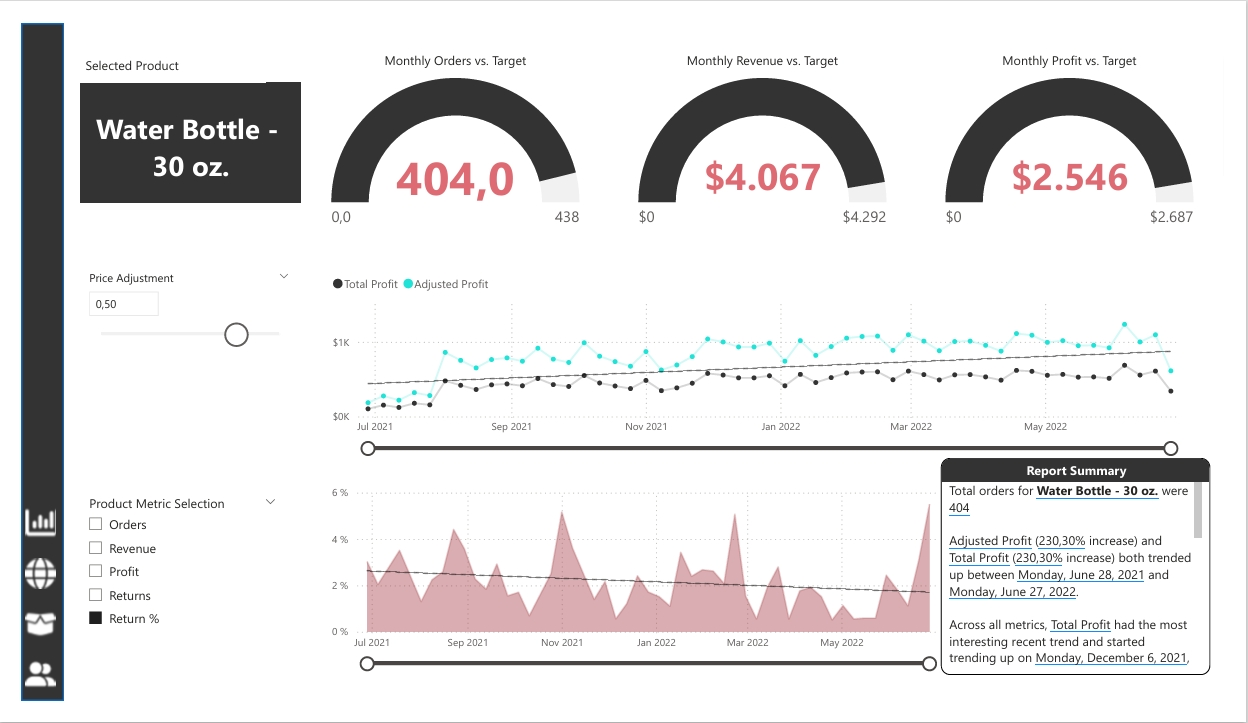

Layout of this report page (visuals, bound fields, positions):
{"tool":"powerbi","page":{"name":"Product Detail","canvas":[1280,720],"ordinal":2},"visuals":[{"type":"shape","box":[0,0,45.2,720],"z":0},{"type":"actionButton","box":[0,511.4,44.3,40],"z":1000,"group":"g1"},{"type":"card","fields":{"Values":["Min(Product Lookup.ProductName)"]},"box":[63.2,63.2,234.8,127.7],"z":1000},{"type":"gauge","title":"Monthly Orders vs. Target","fields":{"Y":["Measure Table.Total Orders"],"MaxValue":["Measure Table.Order Target"]},"box":[325.2,29.7,273.5,202.6],"z":2000},{"type":"actionButton","box":[0,565.7,44.3,40],"z":2000,"group":"g1"},{"type":"gauge","title":"Monthly Revenue vs. Target","fields":{"Y":["Measure Table.Total Revenue"],"MaxValue":["Measure Table.Revenue Target"]},"box":[652.3,29.7,273.5,202.6],"z":3000},{"type":"actionButton","box":[0,619,44.3,40],"z":3000,"group":"g1"},{"type":"gauge","title":"Monthly Profit vs. Target","fields":{"Y":["Measure Table.Total Profit"],"MaxValue":["Measure Table.Profit Target"]},"box":[979.4,29.7,273.5,202.6],"z":4000},{"type":"actionButton","box":[0,672.8,44.3,40],"z":4000,"group":"g1"},{"type":"lineChart","title":"Profit Trending","fields":{"Category":["Calendar Lookup.Date Hierarchy.Start of Year","Calendar Lookup.Date Hierarchy.Start of Month","Calendar Lookup.Date Hierarchy.Start of Week","Calendar Lookup.Date Hierarchy.Date"],"Y":["Measure Table.Total Profit","Measure Table.Adjusted Profit"]},"box":[325.7,257.1,927.1,205.7],"z":5000},{"type":"areaChart","title":"Returns Trending","fields":{"Y":["Measure Table.Return Rate"],"Category":["Calendar Lookup.Date Hierarchy.Start of Year","Calendar Lookup.Date Hierarchy.Start of Month","Calendar Lookup.Date Hierarchy.Start of Week","Calendar Lookup.Date Hierarchy.Date"]},"box":[325.2,485.2,671,206.5],"z":6000},{"type":"textbox","box":[63.2,29.7,197.4,33.5],"z":7000},{"type":"group","id":"g1","title":"Navigation Buttons","box":[0,511.4,44.3,201.4],"z":8000},{"type":"slicer","fields":{"Values":["Price Adjustment.Price Adjustment"]},"box":[58.6,257.1,238.6,118.6],"z":9000},{"type":"slicer","fields":{"Values":["Product Metric Selection.Product Metric Selection"]},"box":[58.6,495.7,224.3,162.9],"z":10000},{"type":"textbox","title":"Report Summary","box":[979.4,461.9,286.5,231],"z":11000}]}

Visuals, with their boxes on the page's 1280x720 design canvas (x1, y1, x2, y2). These are canvas units, not pixel positions in the 1248x723 screenshot, which may show the page scaled, cropped or inside an application window:
shape: bbox=[0, 0, 45, 720]
actionButton: bbox=[0, 511, 44, 551]
card - Min(Product Lookup.ProductName): bbox=[63, 63, 298, 191]
"Monthly Orders vs. Target" gauge: bbox=[325, 30, 599, 232]
actionButton: bbox=[0, 566, 44, 606]
"Monthly Revenue vs. Target" gauge: bbox=[652, 30, 926, 232]
actionButton: bbox=[0, 619, 44, 659]
"Monthly Profit vs. Target" gauge: bbox=[979, 30, 1253, 232]
actionButton: bbox=[0, 673, 44, 713]
"Profit Trending" lineChart: bbox=[326, 257, 1253, 463]
"Returns Trending" areaChart: bbox=[325, 485, 996, 692]
textbox: bbox=[63, 30, 261, 63]
"Navigation Buttons" group: bbox=[0, 511, 44, 713]
slicer - Price Adjustment.Price Adjustment: bbox=[59, 257, 297, 376]
slicer - Product Metric Selection.Product Metric Selection: bbox=[59, 496, 283, 659]
"Report Summary" textbox: bbox=[979, 462, 1266, 693]
